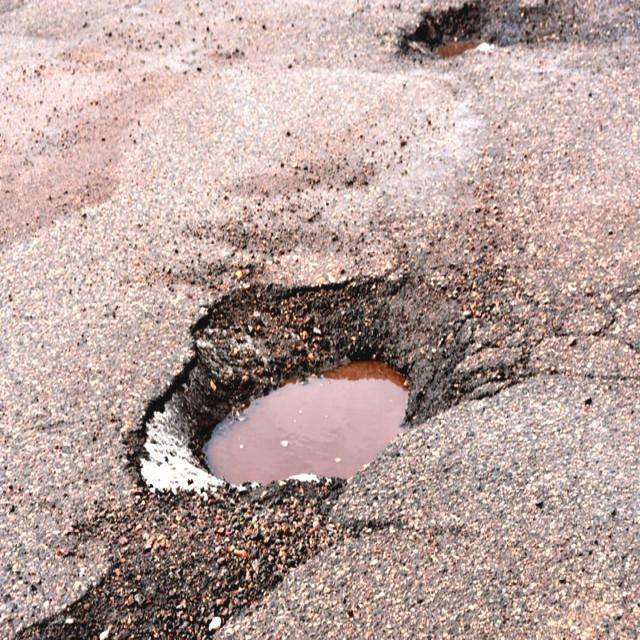pothole: (138, 264, 473, 510), (404, 0, 495, 65)
